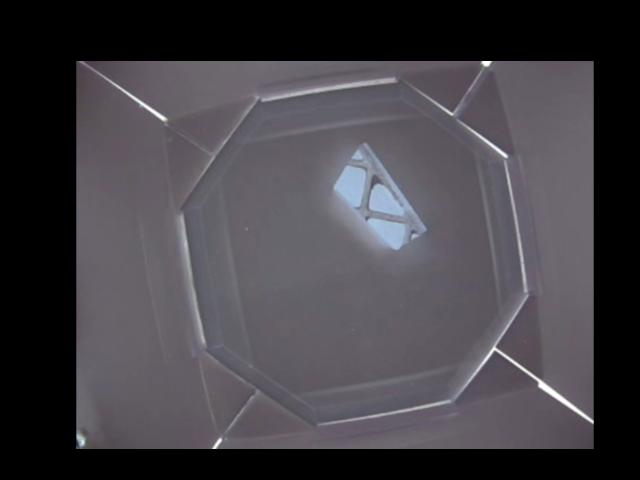China: (335, 142, 423, 250)
